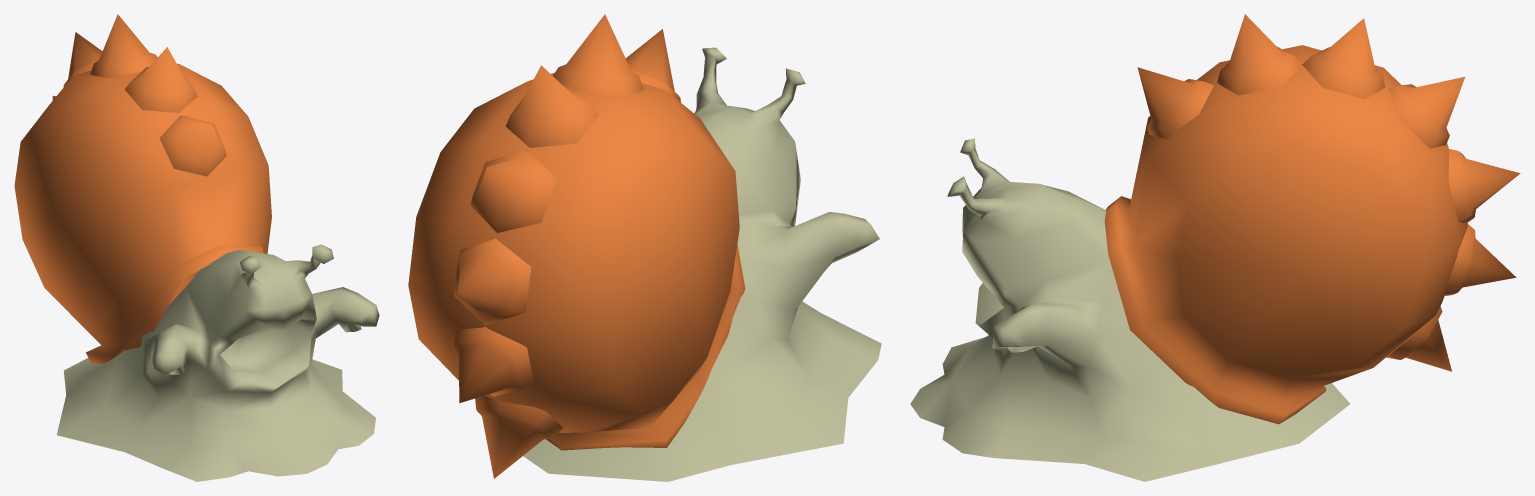
The model's file is Snail@attack.FBX.
3 renders of one model, left to right at view 1: azimuth 30°, elevation 25°; view 2: azimuth 150°, elevation 25°; view 3: azimuth 270°, elevation 25°, orthographic. The views are drawn at different scales.
Visible parts, largest first — view 1: 001, 01; view 2: 001, 01; view 3: 001, 01.
Part boxes in pixels (bbox=[...]): 001: bbox=[14, 14, 271, 363]; 01: bbox=[57, 244, 379, 481]; 001: bbox=[408, 14, 745, 478]; 01: bbox=[523, 47, 881, 481]; 001: bbox=[1104, 14, 1520, 424]; 01: bbox=[910, 138, 1349, 481].
Size of the model in its own units: 135 by 149 by 211.
